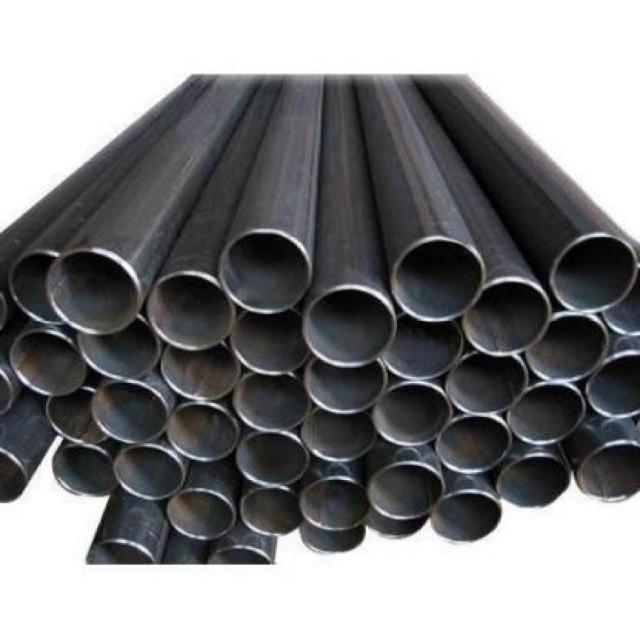pipe: (46, 249, 142, 334), (392, 237, 486, 322), (218, 232, 311, 315), (304, 286, 397, 368), (551, 233, 639, 314), (148, 271, 236, 350), (464, 279, 552, 356), (527, 314, 610, 382), (381, 314, 463, 381), (78, 316, 163, 379), (446, 352, 529, 414), (373, 383, 453, 446), (232, 309, 309, 374), (509, 381, 588, 444), (92, 381, 169, 444), (11, 329, 85, 394), (436, 414, 512, 475), (367, 461, 445, 520), (161, 343, 240, 401), (10, 249, 70, 325), (305, 358, 387, 413), (234, 372, 311, 429), (167, 403, 240, 460), (497, 455, 572, 509), (304, 408, 377, 462), (237, 432, 310, 486), (577, 440, 639, 503), (114, 446, 185, 500), (432, 490, 503, 544), (585, 350, 639, 418), (300, 477, 368, 530), (46, 387, 108, 444), (167, 489, 236, 540), (53, 444, 111, 497), (241, 487, 301, 535), (303, 522, 366, 555), (366, 510, 431, 538), (0, 448, 26, 506), (0, 367, 14, 418)
